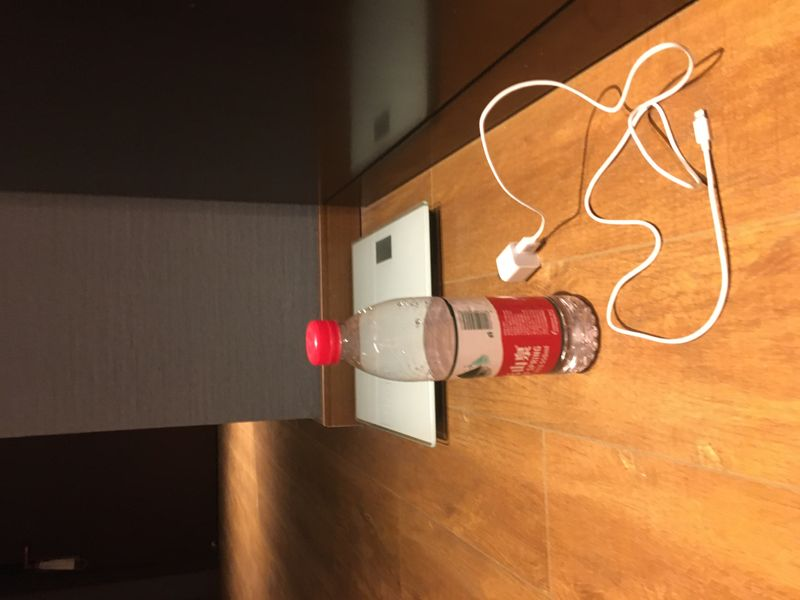5eca67a90202601e8cb8d104: (304, 295, 604, 375)
